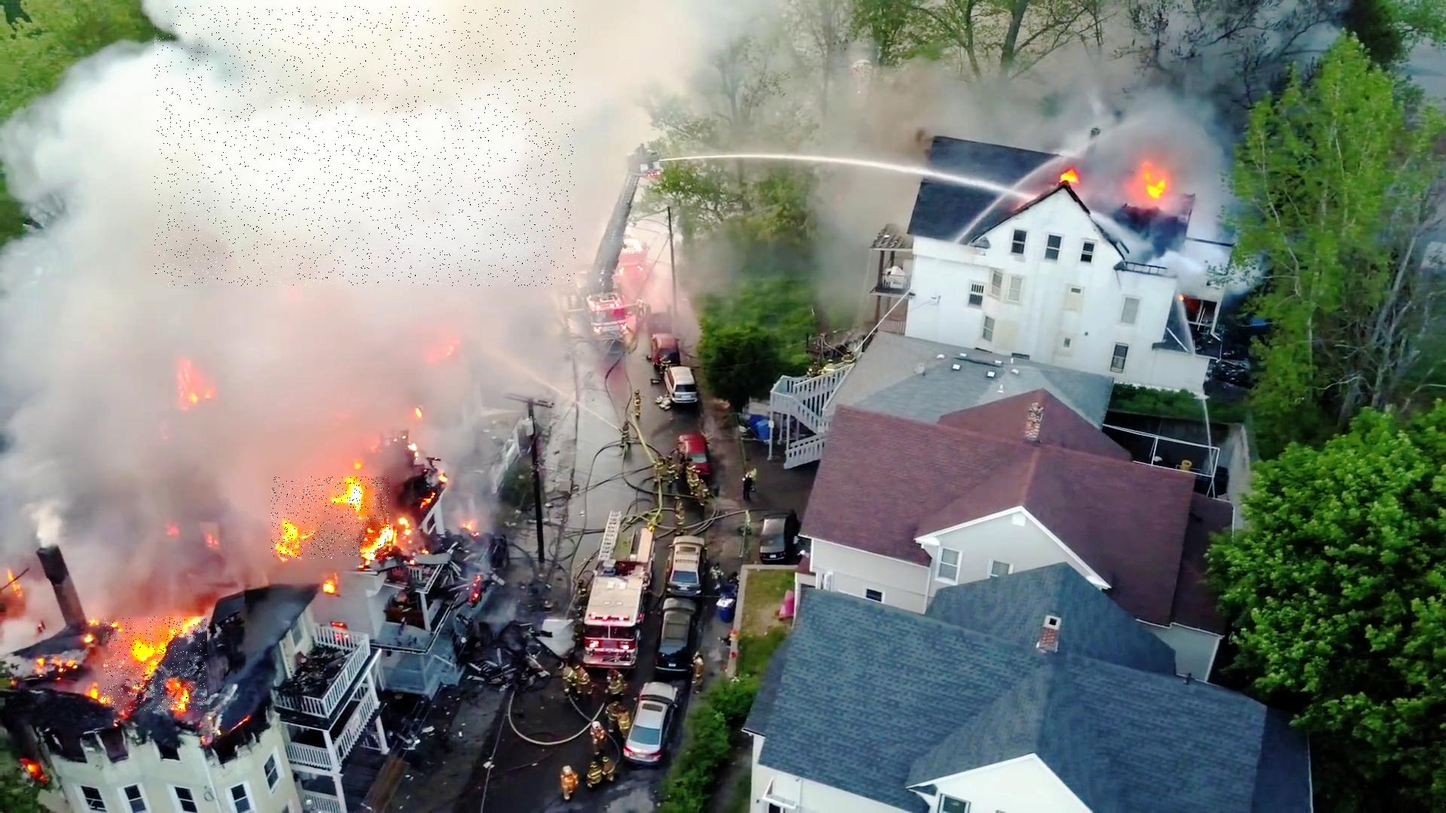fire: (103, 617, 207, 711), (272, 477, 391, 559)
smoke: (155, 7, 575, 287)
